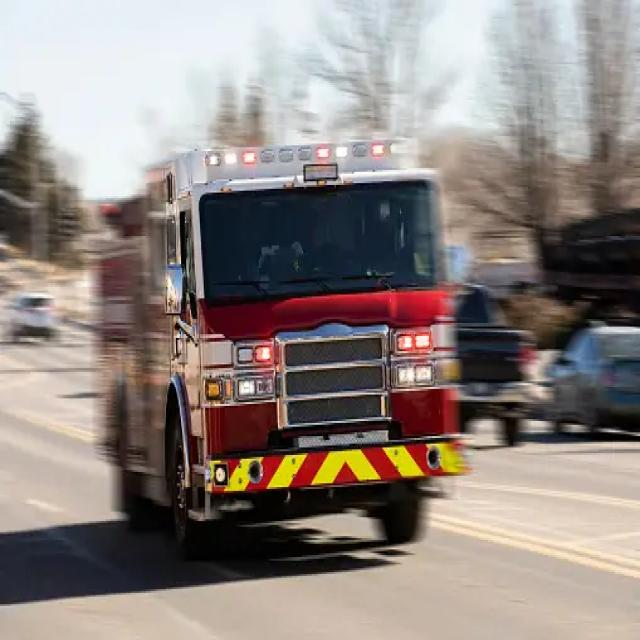emergency: (98, 139, 466, 555)
